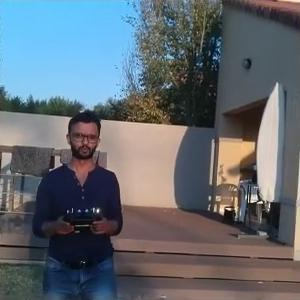follow: (31, 105, 129, 298)
